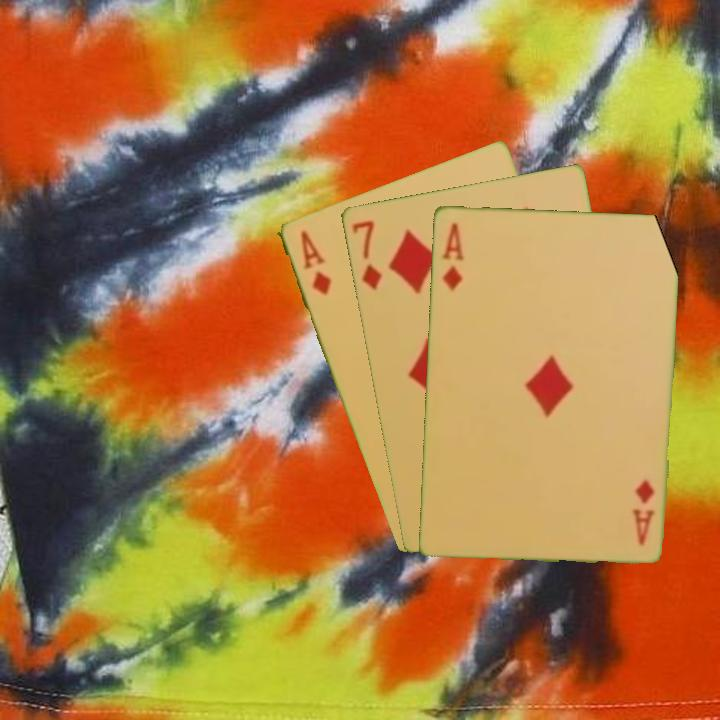7d: (348, 216, 384, 293)
Ad: (296, 226, 334, 297), (438, 218, 467, 293), (629, 475, 657, 548)
